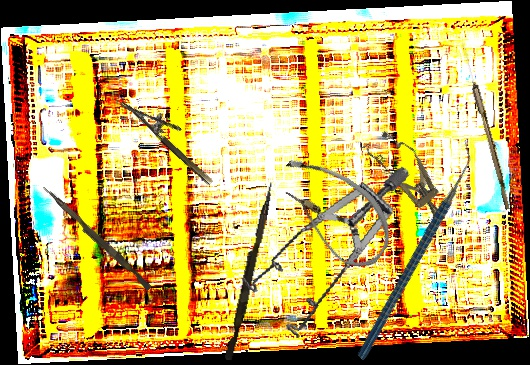Cannula: (259, 145, 407, 278)
Chopper: (298, 139, 530, 361)
Needle Holder: (119, 86, 225, 187)
Pusher: (38, 185, 155, 291), (224, 180, 275, 362)
Speculum: (225, 164, 441, 349), (361, 123, 459, 232)
Surgical Spoon: (458, 42, 514, 210)
